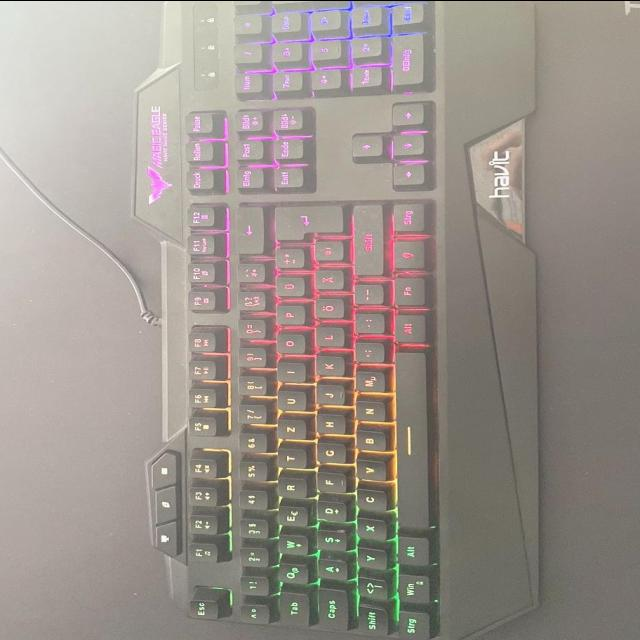0: (235, 319, 265, 340)
1: (237, 576, 268, 597)
2: (237, 548, 268, 568)
3: (237, 519, 268, 540)
4: (234, 491, 266, 511)
5: (235, 462, 267, 483)
6: (235, 433, 267, 455)
7: (233, 405, 265, 425)
8: (234, 376, 266, 397)
9: (233, 348, 265, 369)
a: (315, 560, 347, 582)
accent: (234, 264, 264, 284)
ae: (311, 270, 343, 292)
alt-left: (395, 536, 429, 568)
altgr-right: (391, 315, 425, 345)
b: (353, 431, 386, 453)
c: (354, 490, 386, 512)
caret: (237, 604, 268, 625)
comma: (351, 343, 383, 365)
d: (313, 502, 345, 524)
del: (230, 208, 264, 256)
e: (274, 507, 307, 529)
enter: (271, 206, 343, 243)
f: (313, 474, 345, 495)
g: (313, 444, 345, 464)
h: (312, 415, 344, 436)
hash: (311, 241, 342, 263)
i: (274, 363, 304, 385)
j: (312, 385, 344, 407)
k: (312, 356, 344, 378)
keyboard: (161, 0, 455, 640)
l: (312, 329, 344, 349)
less: (355, 578, 387, 601)
m: (352, 372, 384, 394)
minus: (351, 285, 382, 307)
n: (352, 402, 384, 424)
o: (273, 334, 304, 356)
oe: (312, 299, 343, 320)
p: (273, 306, 303, 327)
plus: (272, 249, 303, 270)
point: (352, 314, 382, 336)
q: (274, 564, 308, 586)
r: (274, 478, 306, 500)
s: (314, 531, 347, 553)
shift-left: (355, 607, 388, 638)
shift-lock: (315, 588, 348, 633)
shift-right: (350, 206, 382, 277)
space: (393, 351, 429, 533)
ss: (235, 291, 265, 312)
strg-left: (397, 611, 430, 640)
strg-right: (390, 203, 425, 235)
t: (273, 448, 305, 470)
tab: (277, 592, 309, 629)
u: (274, 391, 306, 413)
ue: (272, 277, 303, 299)
v: (353, 461, 384, 483)
w: (275, 535, 307, 557)
x: (353, 519, 385, 542)
y: (354, 549, 386, 571)
z: (274, 420, 306, 442)
